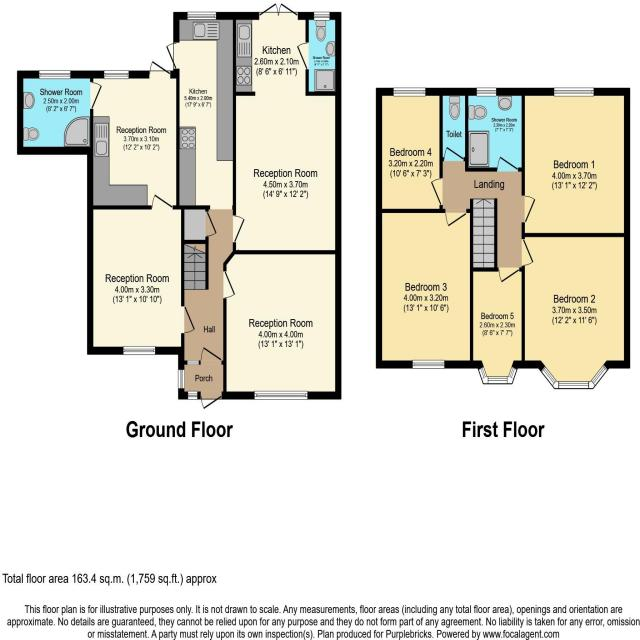DOOR: (521, 194, 537, 224), (445, 208, 467, 228), (181, 305, 196, 334), (232, 214, 246, 244), (200, 346, 222, 365), (496, 155, 519, 172), (430, 176, 443, 206), (521, 238, 534, 267), (223, 270, 236, 299), (90, 81, 103, 110), (151, 193, 174, 209), (296, 42, 309, 70), (498, 267, 520, 283), (443, 146, 464, 162)
DOUBLE DOOR: (257, 2, 300, 20)
ROOM: (232, 3, 342, 254), (223, 249, 342, 400), (87, 192, 196, 355), (521, 232, 631, 390), (521, 87, 630, 237), (375, 209, 474, 369), (165, 12, 237, 210), (87, 60, 180, 210), (375, 87, 444, 213), (470, 267, 525, 385)
WINDOW: (540, 363, 609, 390), (478, 366, 518, 385), (253, 390, 308, 400), (553, 87, 595, 97), (412, 359, 445, 369), (393, 87, 426, 97), (123, 345, 156, 355), (38, 70, 71, 80), (187, 11, 217, 20), (103, 70, 129, 80), (475, 87, 497, 97), (313, 11, 330, 21), (177, 369, 185, 389), (187, 390, 198, 400), (187, 360, 199, 365)
